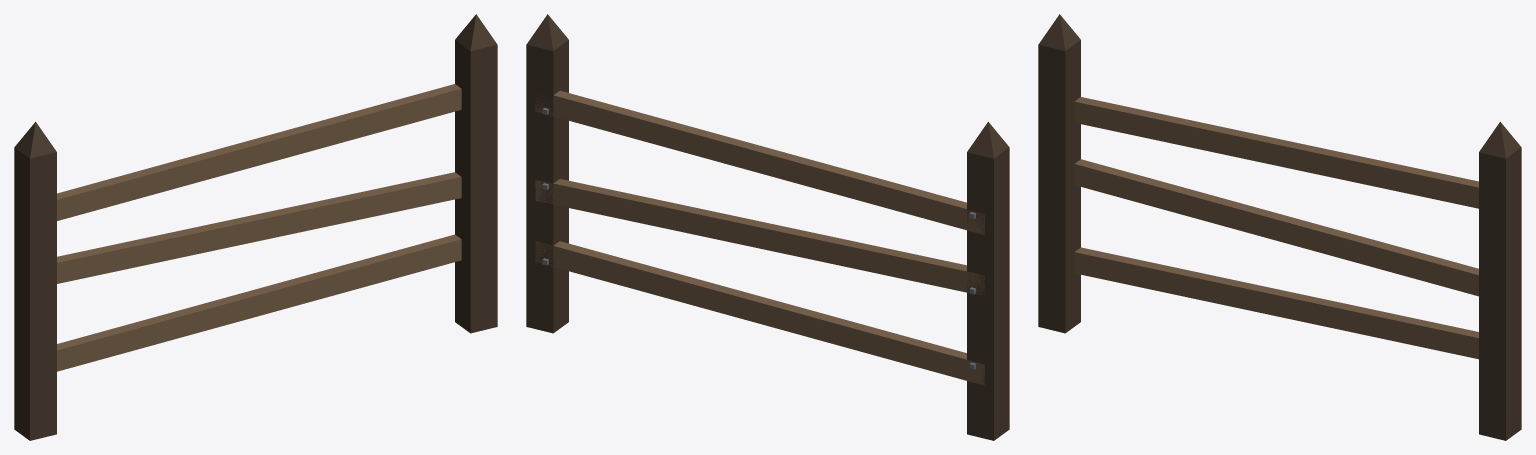
File: fence_wood_section.glb
3 renders of one model, left to right at view 1: azimuth 30°, elevation 25°; view 2: azimuth 150°, elevation 25°; view 3: azimuth 330°, elevation 25°, orthographic.
Visible parts, largest first — view 1: fence_wood_section; view 2: fence_wood_section; view 3: fence_wood_section.
Part boxes in pixels (x1=…): fence_wood_section: x1=14, y1=14, x2=497, y2=440; fence_wood_section: x1=526, y1=14, x2=1009, y2=440; fence_wood_section: x1=1038, y1=14, x2=1521, y2=440.
Size of what is drawn, in the model's own units: 2.08 by 1.32 by 0.1351.
Materials: 1 (1 with a texture image).
